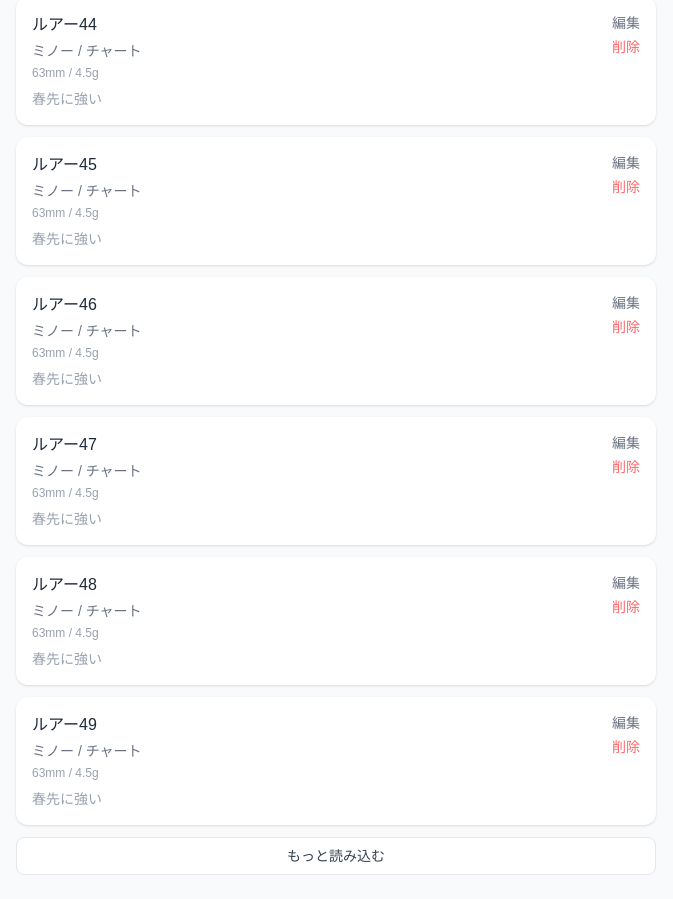
Test: LuresPage › 50 件取得した場合はもっと読み込むボタンで次ページを追加する
(page scrolled)
Click the button "もっと読み込む": {"x": 336, "y": 856} [16,837,656,875]
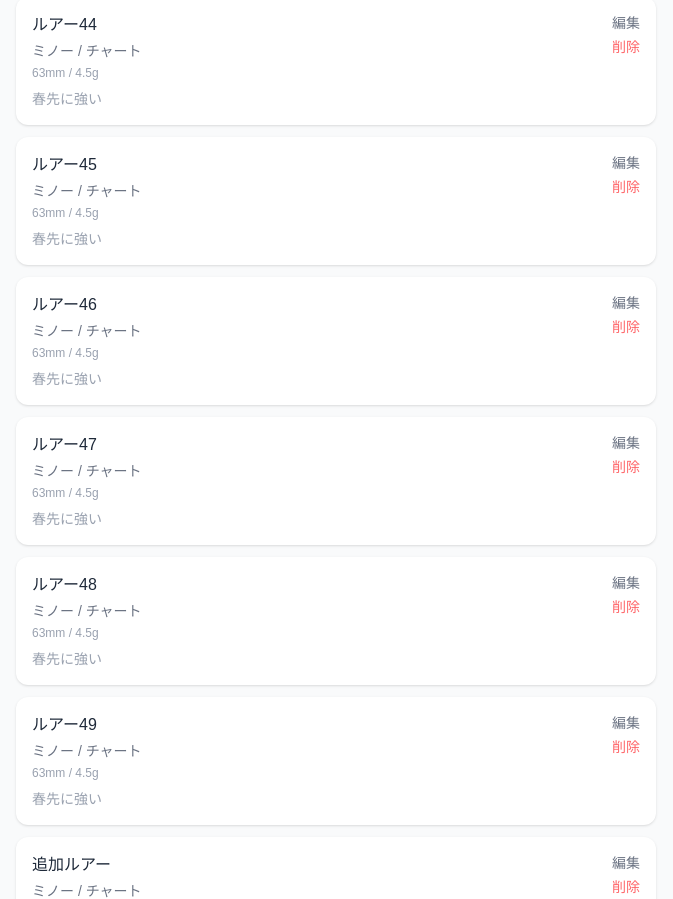
Expected: the text "追加ルアー" is shown, [32,856,111,873]
